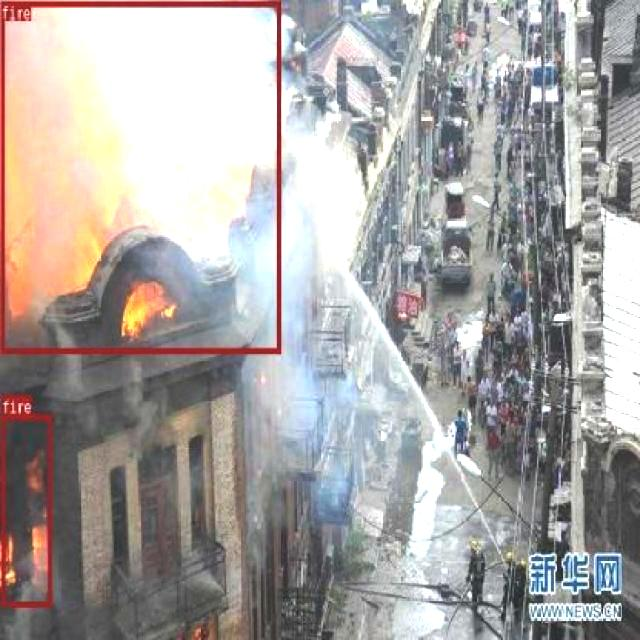fire: (0, 0, 279, 352), (1, 414, 50, 606)
